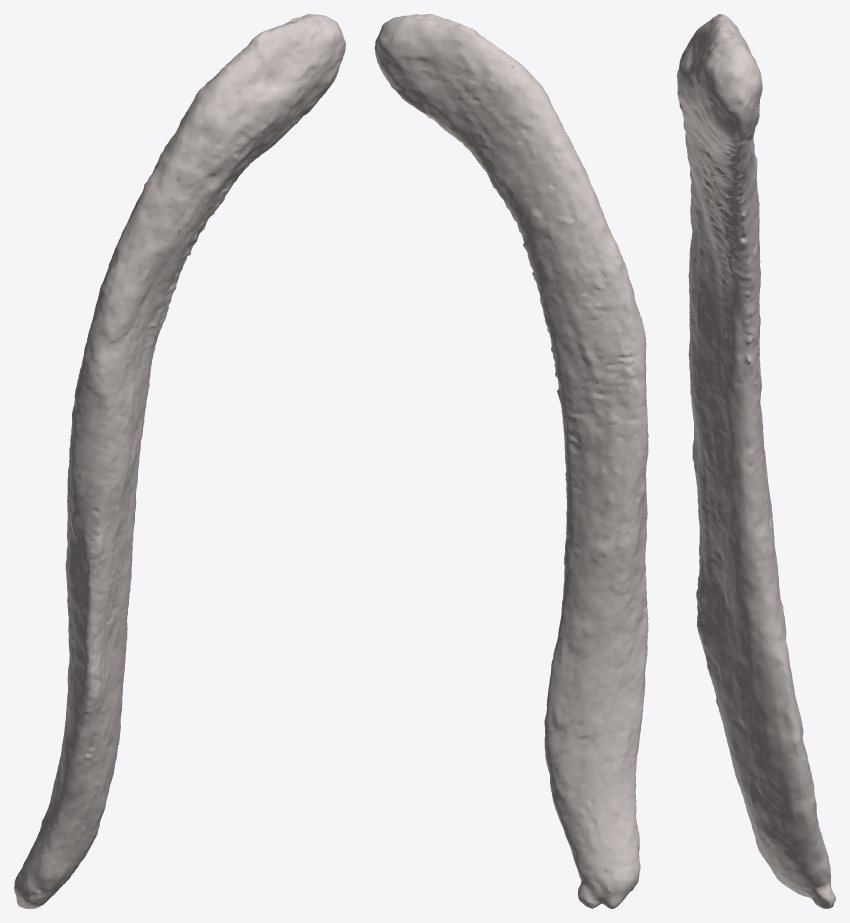
3 renders of one model, left to right at view 1: azimuth 30°, elevation 25°; view 2: azimuth 150°, elevation 25°; view 3: azimuth 270°, elevation 25°, orthographic. The views are drawn at different scales.
Parts seen in each view (by area): view 1: Clavicula_Katze.001; view 2: Clavicula_Katze.001; view 3: Clavicula_Katze.001.
Boxes of the visible parts, x1=… form: Clavicula_Katze.001: x1=14, y1=14, x2=345, y2=908; Clavicula_Katze.001: x1=374, y1=14, x2=648, y2=908; Clavicula_Katze.001: x1=677, y1=14, x2=835, y2=908.
Bounding box in the file's own units: 844 × 2320 × 335.
Materials: 1 (1 with a texture image).
